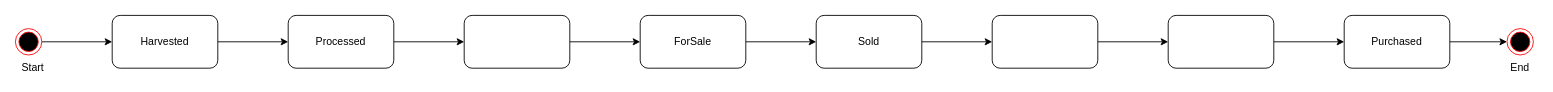
Image size: 1553x92. Some labels were removed from this diagram. Here are the shapes that lost their labels. From the top down, the centre of each, then its label:
At point 516,41: "Packed".
At point 1044,41: "Shipped".
At point 1220,41: "Received".
